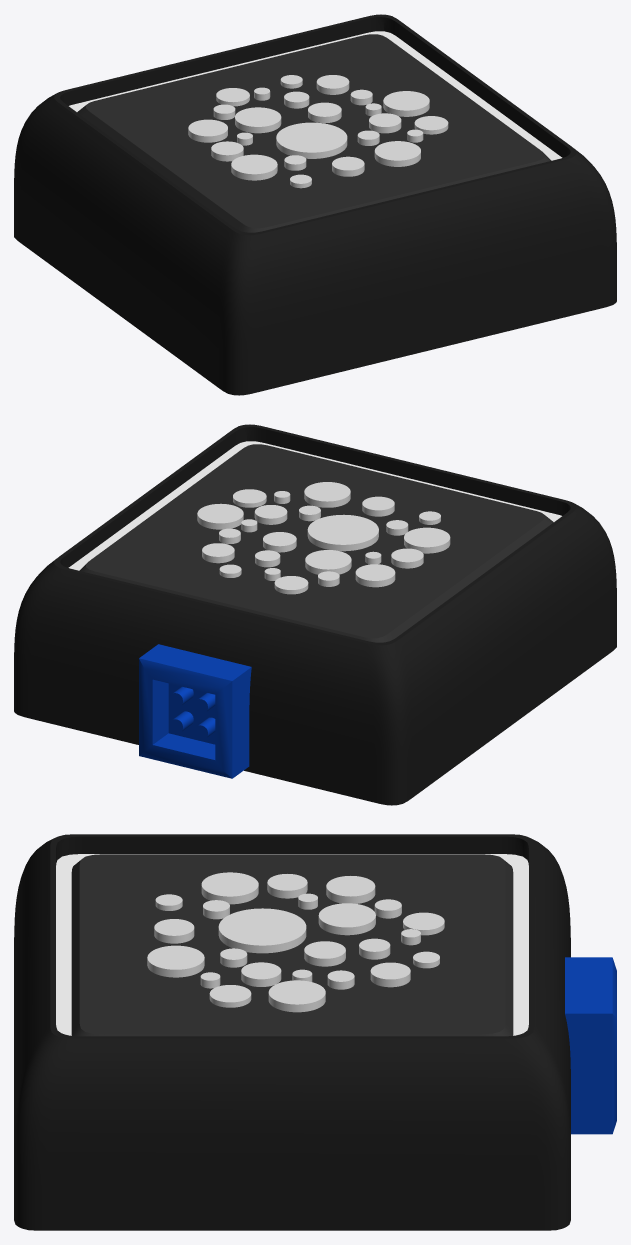
File: DensitySensor.gltf
3 views of the same model, one above another, from view 1: azimuth 30°, elevation 25°; view 2: azimuth 150°, elevation 25°; view 3: azimuth 270°, elevation 25° (orthographic). The views are drawn at different scales.
Parts seen in each view (by area): view 1: base; view 2: base; view 3: base.
Boxes of the visible parts, left/top/right/bottom form: base: left=14, top=14, right=616, bottom=395; base: left=14, top=424, right=616, bottom=805; base: left=14, top=834, right=616, bottom=1230.
Size of the model in its own units: 0.25 by 0.0875 by 0.2706.
